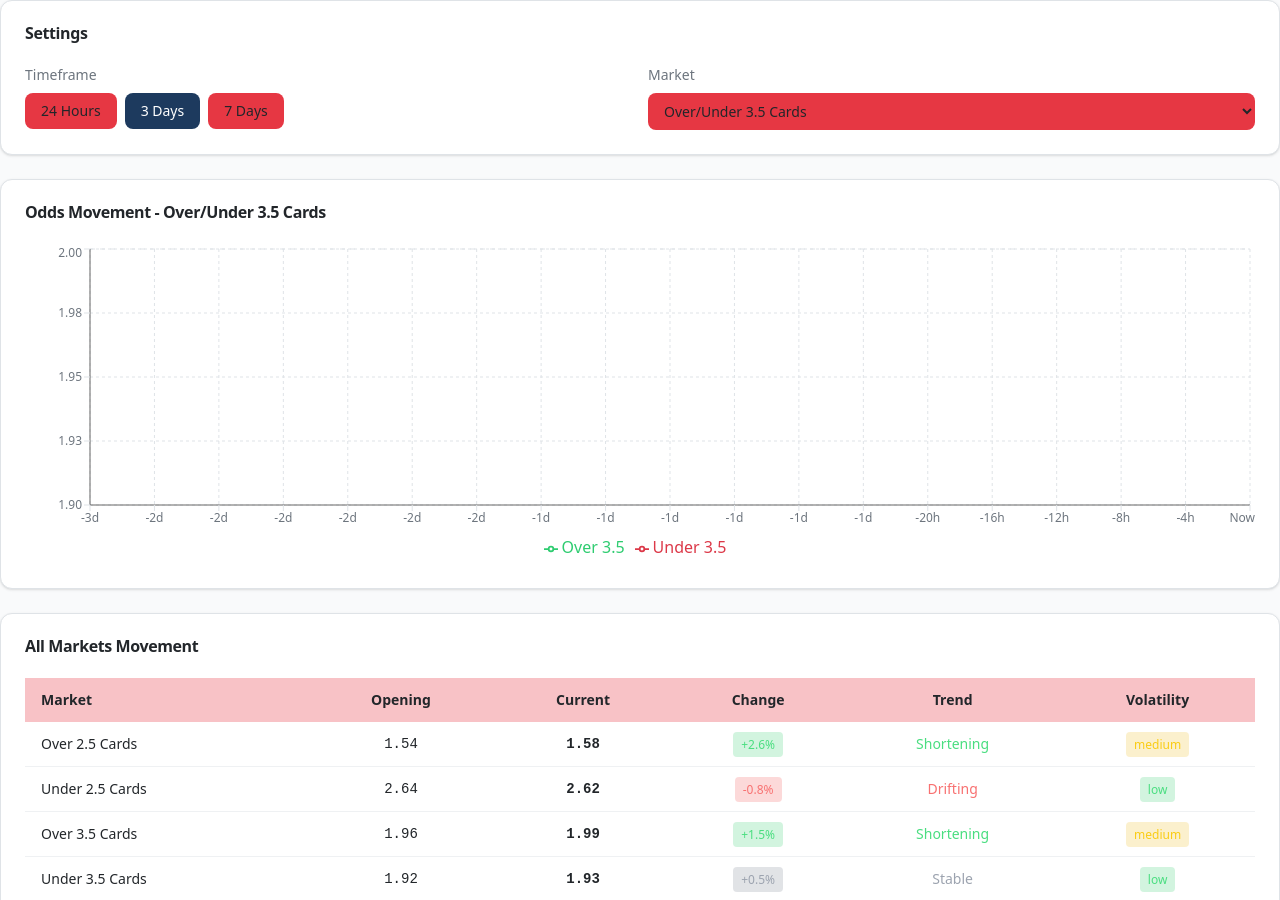
Test: OddsMovementChart › Controls › can change market selection
Select "Over/Under 2.5 Cards" in the dropdown showing "Over/Under 3.5 Cards" at [952, 112], box x1=648 y1=93 x2=1255 y2=130
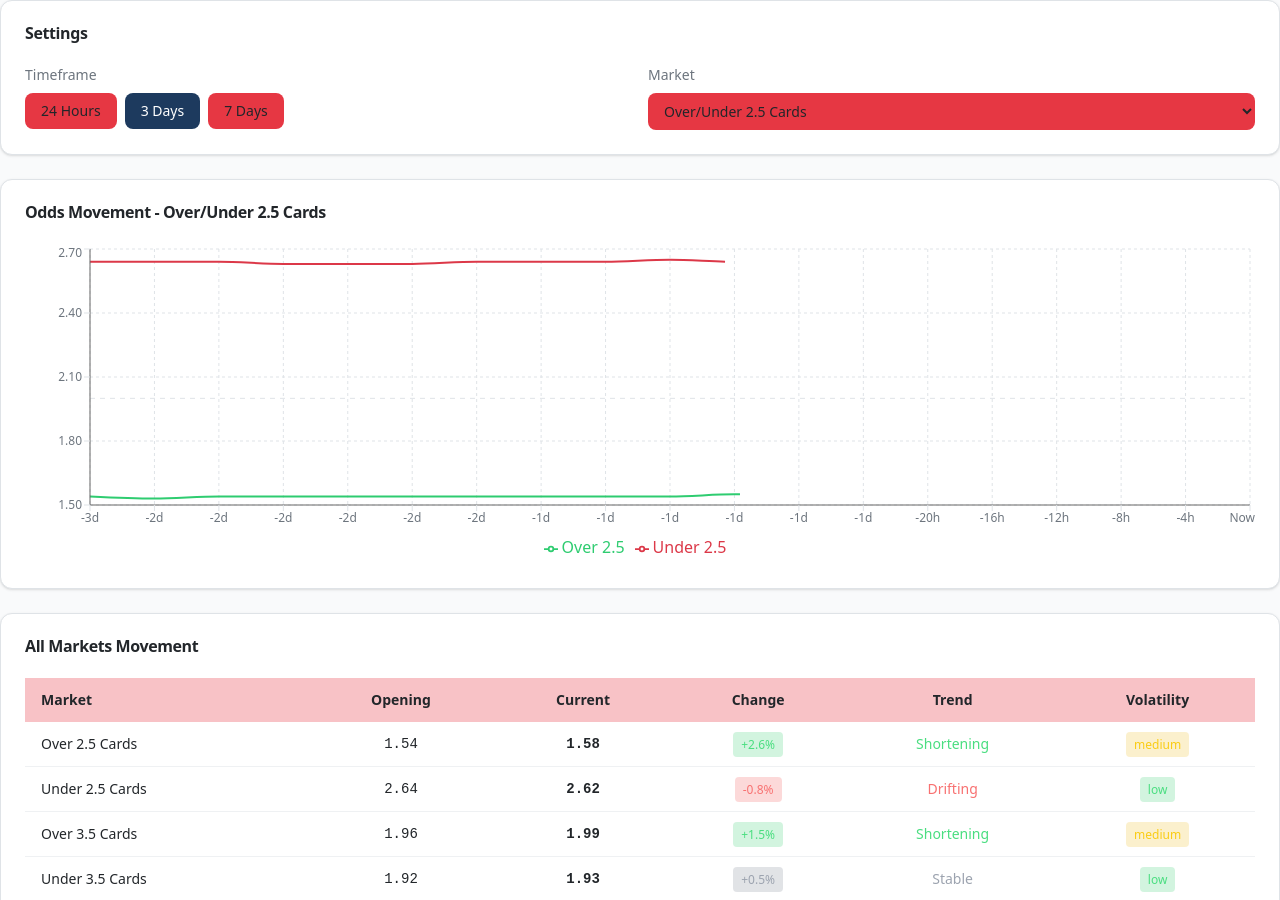
Check: the text "Odds Movement - Over/Under 2.5 Cards" is shown, box x1=25 y1=201 x2=326 y2=223
